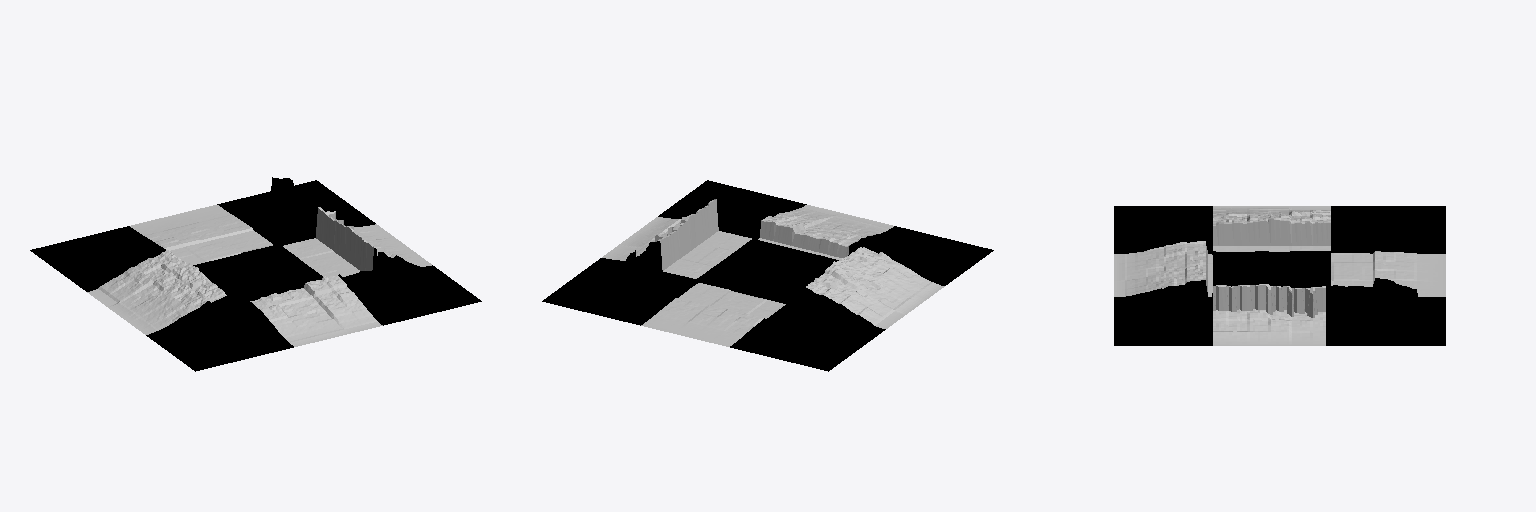
The model's file is EXStage.obj.
3 renders of one model, left to right at view 1: azimuth 30°, elevation 25°; view 2: azimuth 150°, elevation 25°; view 3: azimuth 270°, elevation 25°, orthographic.
Visible parts, largest first — view 1: Landscape.003; view 2: Landscape.003; view 3: Landscape.003.
Part boxes in pixels (left/top/right/bottom): Landscape.003: left=30, top=177, right=481, bottom=371; Landscape.003: left=542, top=180, right=993, bottom=371; Landscape.003: left=1114, top=206, right=1445, bottom=345.
Bounding box in the file's own units: 689 × 91.01 × 689.